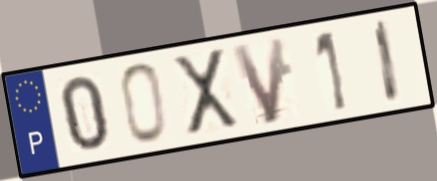0: (116, 59, 173, 148), (57, 73, 113, 153)
1: (312, 27, 350, 113)
I: (372, 17, 404, 106)
V: (228, 33, 289, 128)
X: (169, 46, 242, 140)
